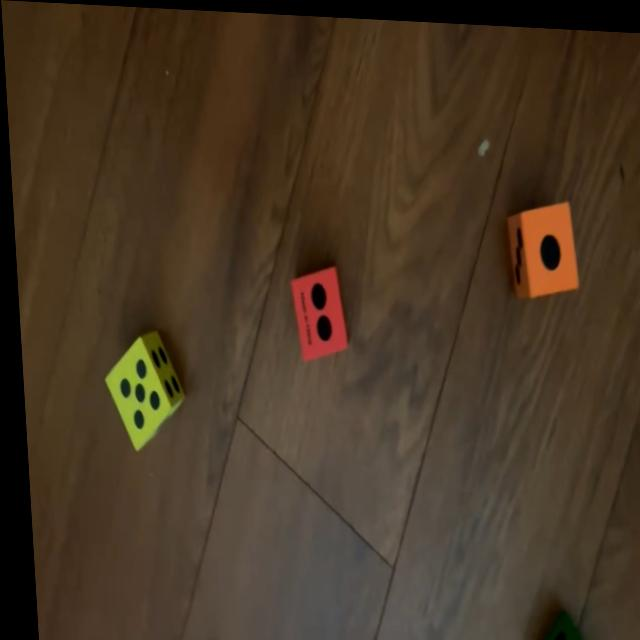red_block: (285, 263, 344, 359)
